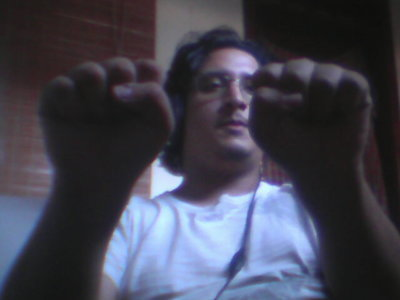closedhandfront: (31, 45, 184, 175), (237, 48, 382, 179)
